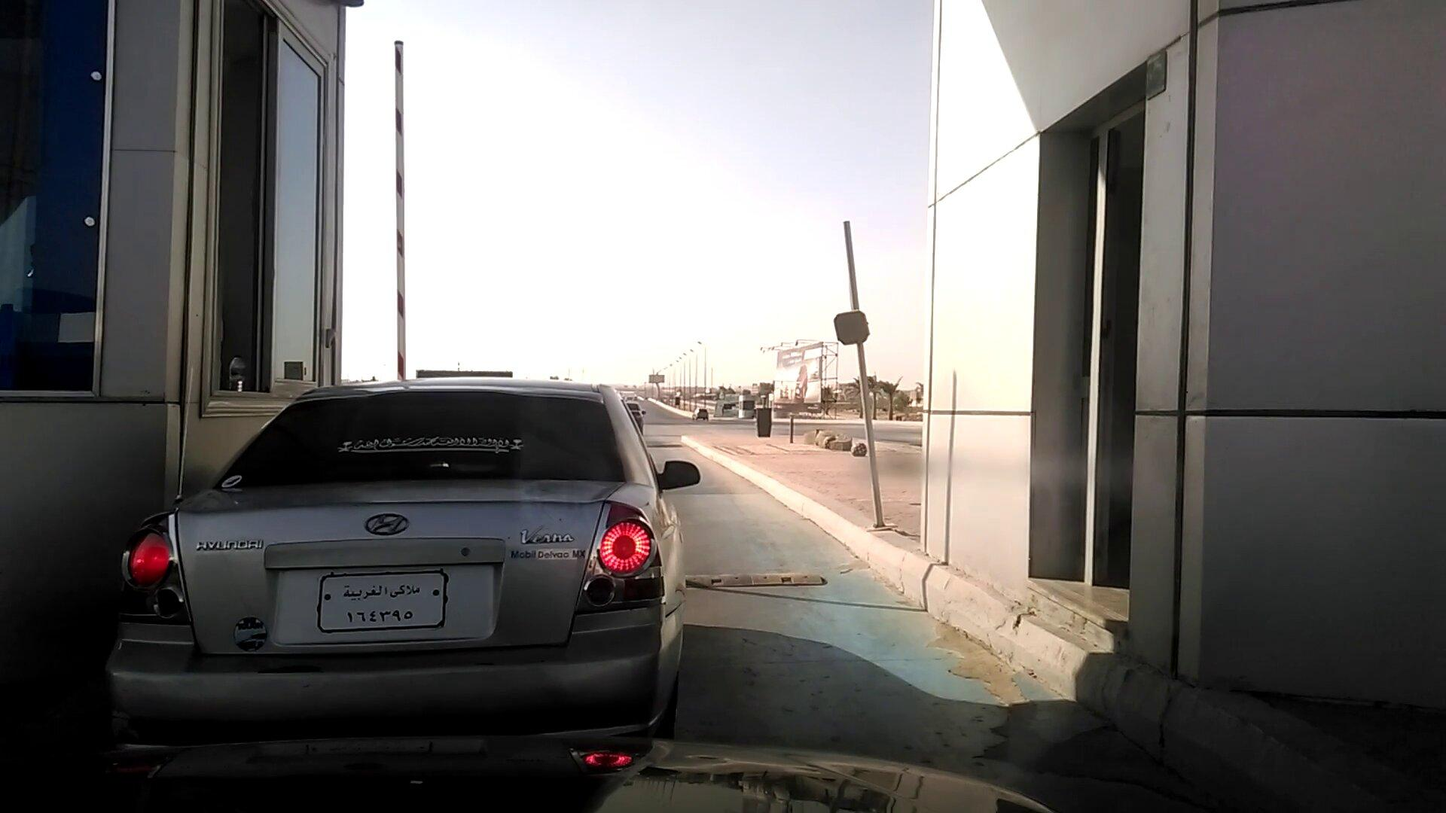Bump: (679, 564, 828, 589)
